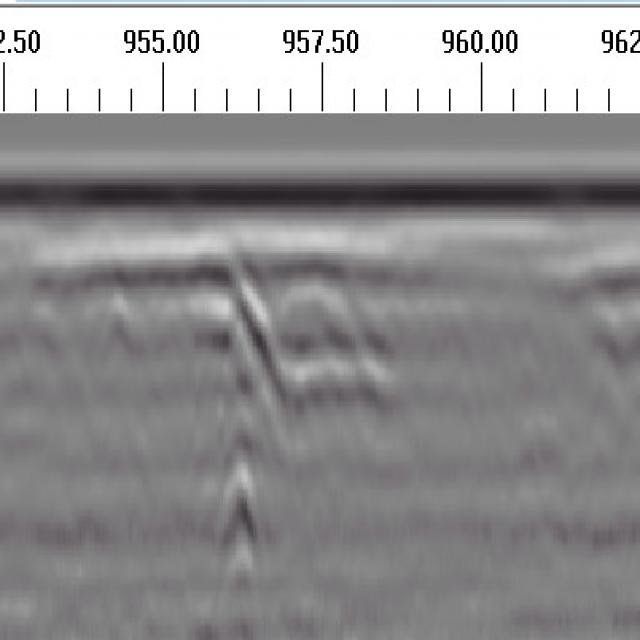crack: (197, 233, 276, 639)
